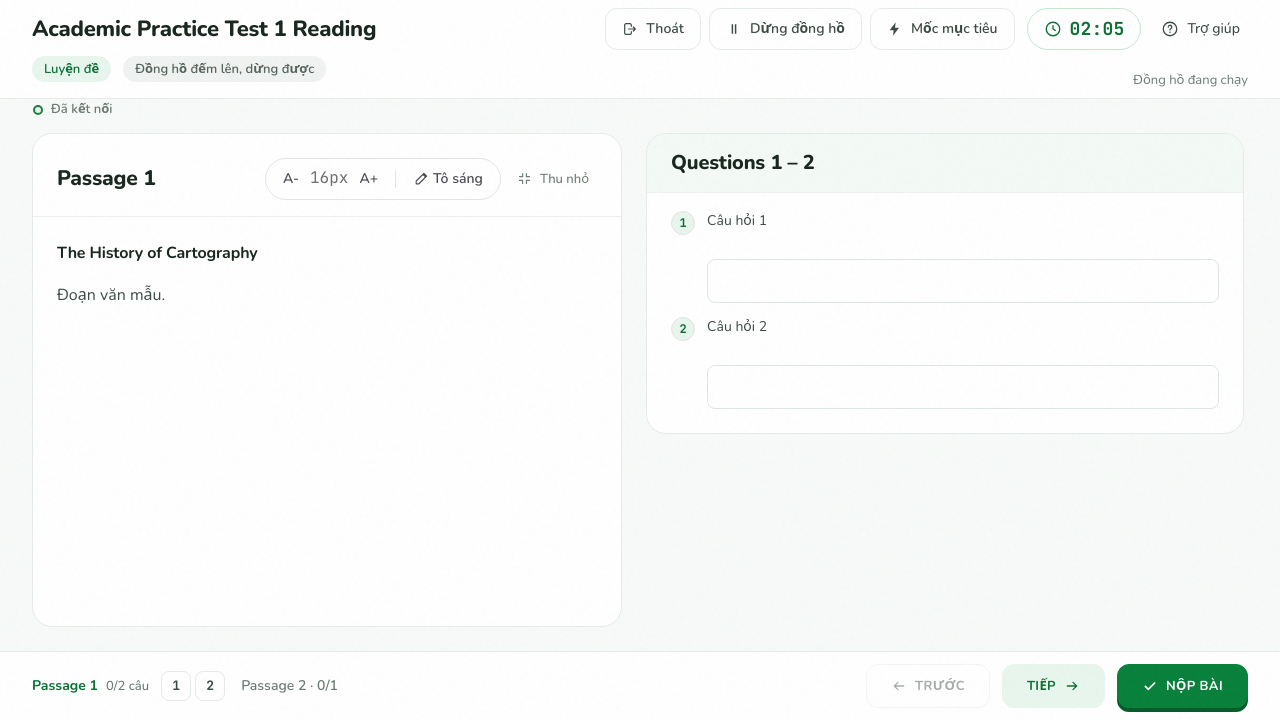
Test: stops the clock through the server, and sends no timestamp with it
Expected: the heading "The History of Cartography" is shown, [57,242,258,264]
Click the button "Dừng đồng hồ" at (786, 29), box [709,8,862,50]
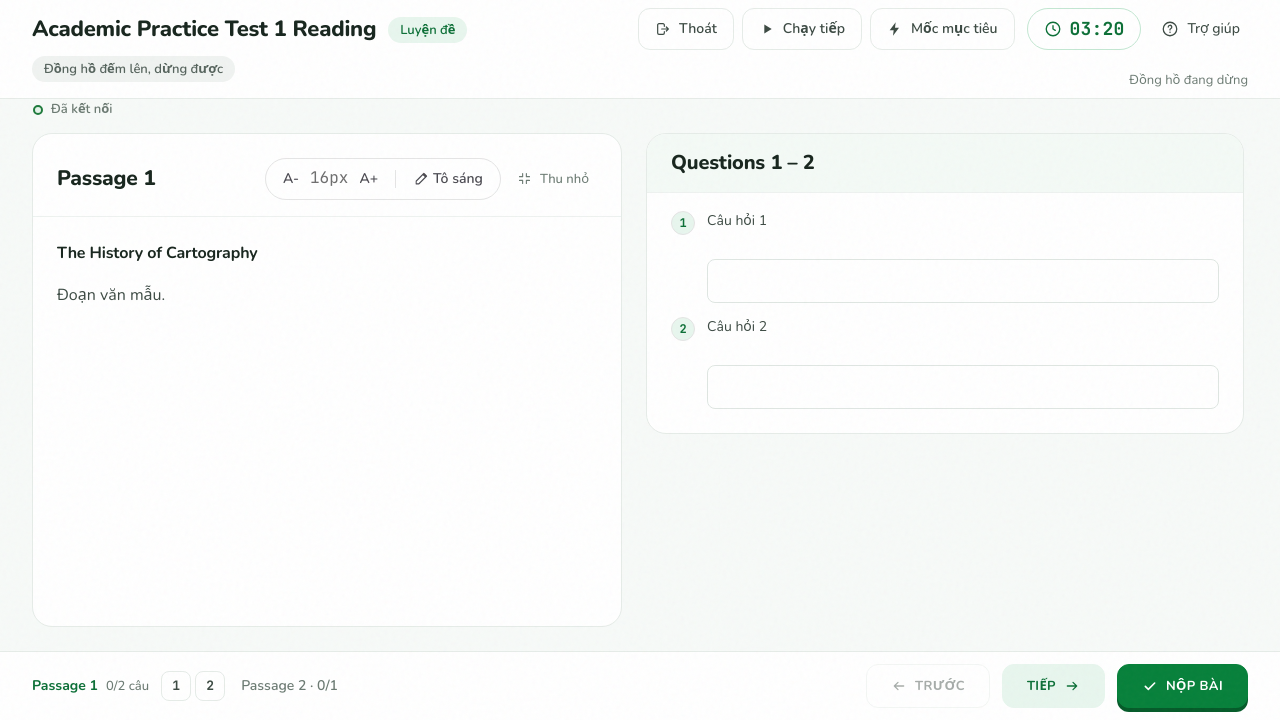
Expected: the text "Đồng hồ đang dừng" is shown, [1129,70,1248,90]
Expected: the element showing "03:20" is shown, [1027,8,1142,50]
Expected: the button "Chạy tiếp" is shown, [742,8,862,50]
